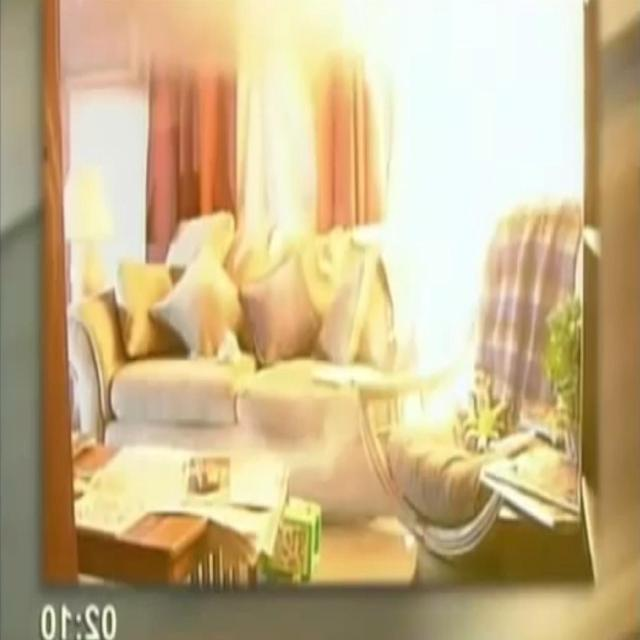smoke: (386, 0, 502, 423)
